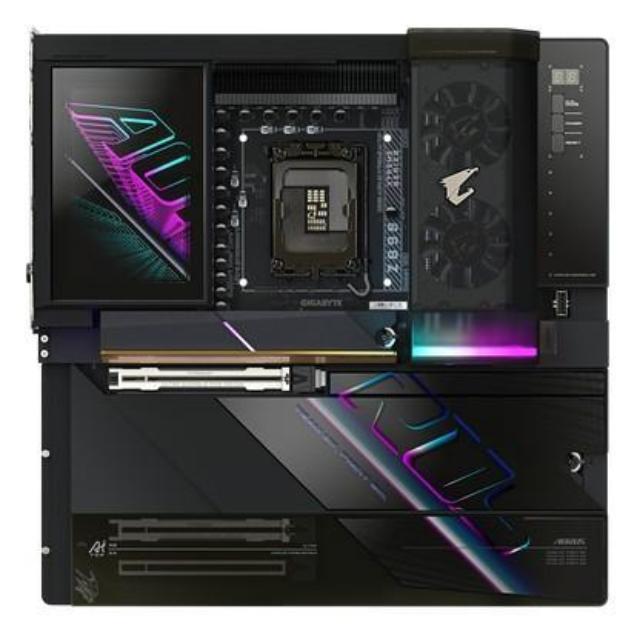Mainboard: (30, 25, 608, 608)
